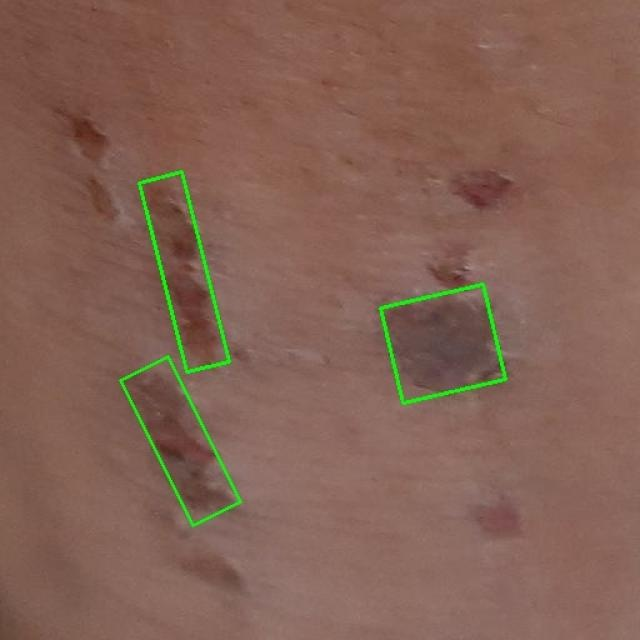Contact Dermatitis: (120, 357, 240, 526), (139, 172, 229, 372), (380, 284, 506, 404)
